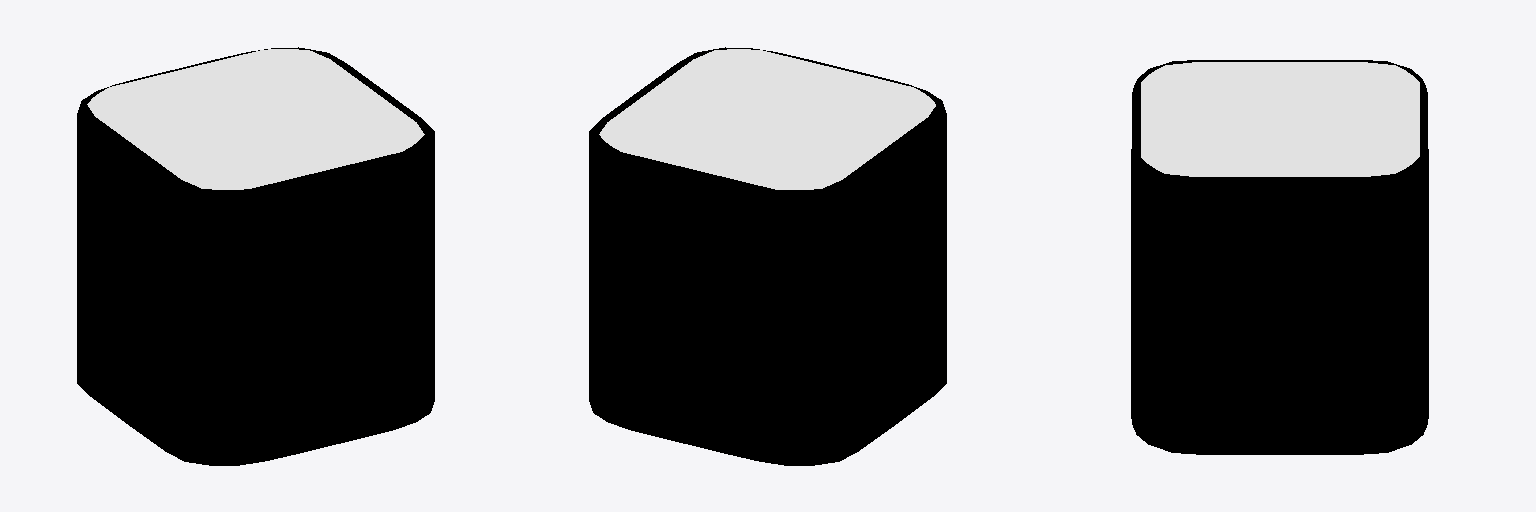
File: centerW.obj
3 views of the same model, side by side, from view 1: azimuth 30°, elevation 25°; view 2: azimuth 150°, elevation 25°; view 3: azimuth 270°, elevation 25° (orthographic).
Parts seen in each view (by area): view 1: BasicCenter_Plane.007, CenterSide_Plane.010; view 2: BasicCenter_Plane.007, CenterSide_Plane.010; view 3: BasicCenter_Plane.007, CenterSide_Plane.010.
Part boxes in pixels (x1,y1,x2,y2): BasicCenter_Plane.007: (77,47,434,465); CenterSide_Plane.010: (87,49,424,189); BasicCenter_Plane.007: (589,47,946,465); CenterSide_Plane.010: (599,49,935,189); BasicCenter_Plane.007: (1131,60,1428,454); CenterSide_Plane.010: (1141,62,1419,176).
Size of the model in its own units: 0.18 by 0.1815 by 0.18.